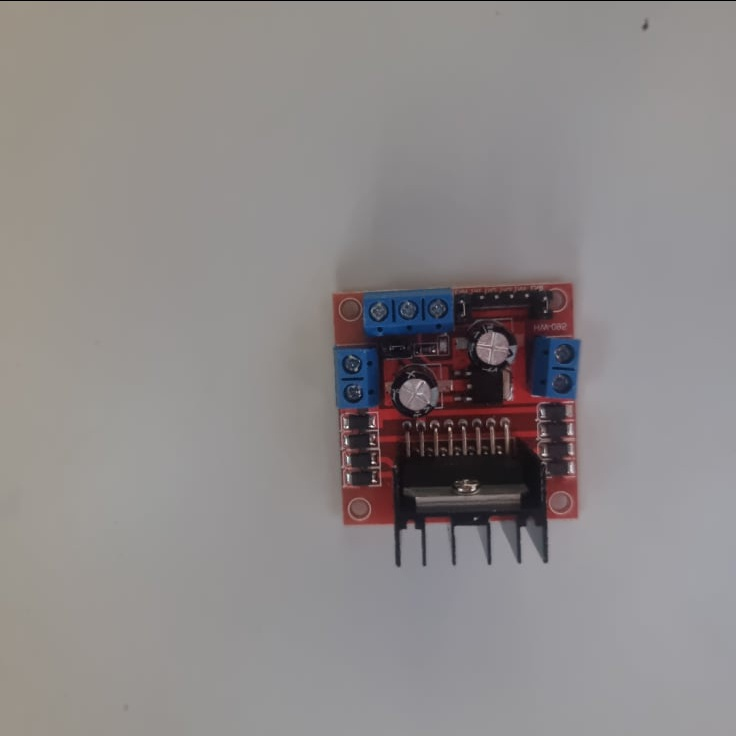MOTOR: (330, 287, 581, 562)
